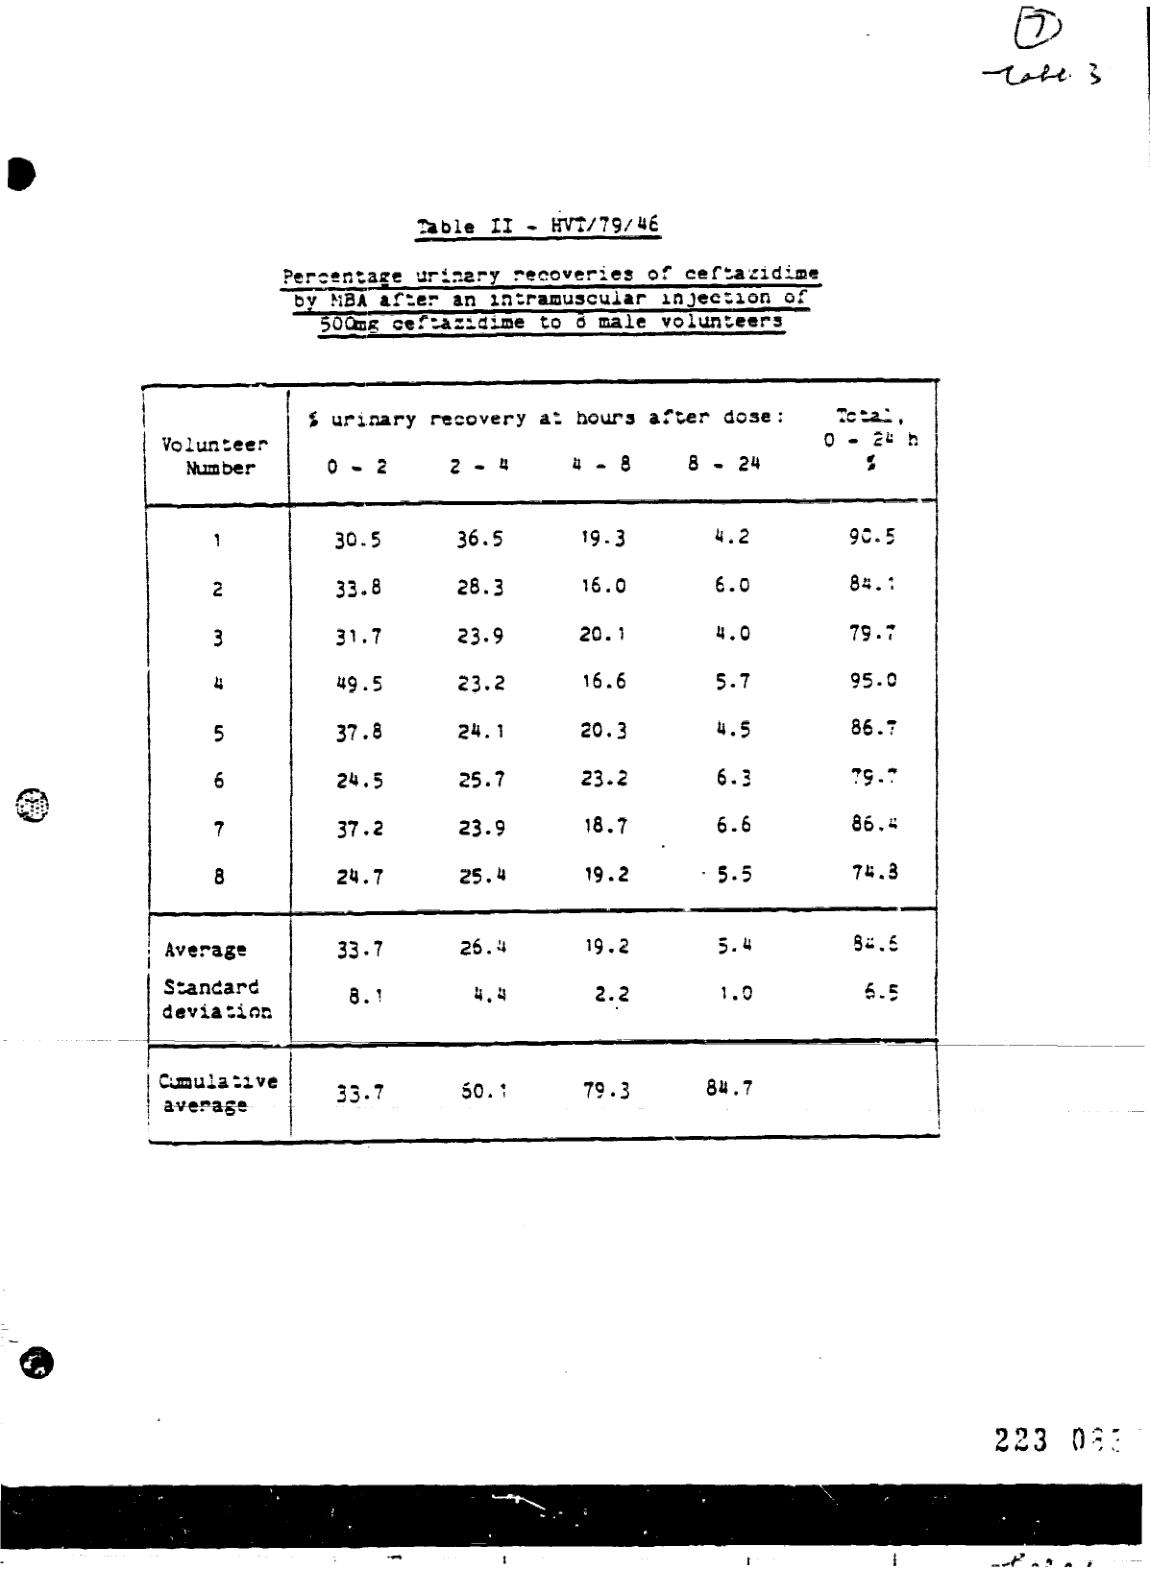partial_lined_merged_cells: (140, 375, 946, 1149)
